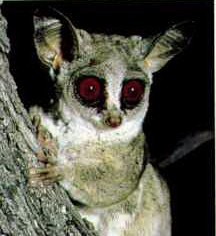cat: (29, 3, 193, 235)
